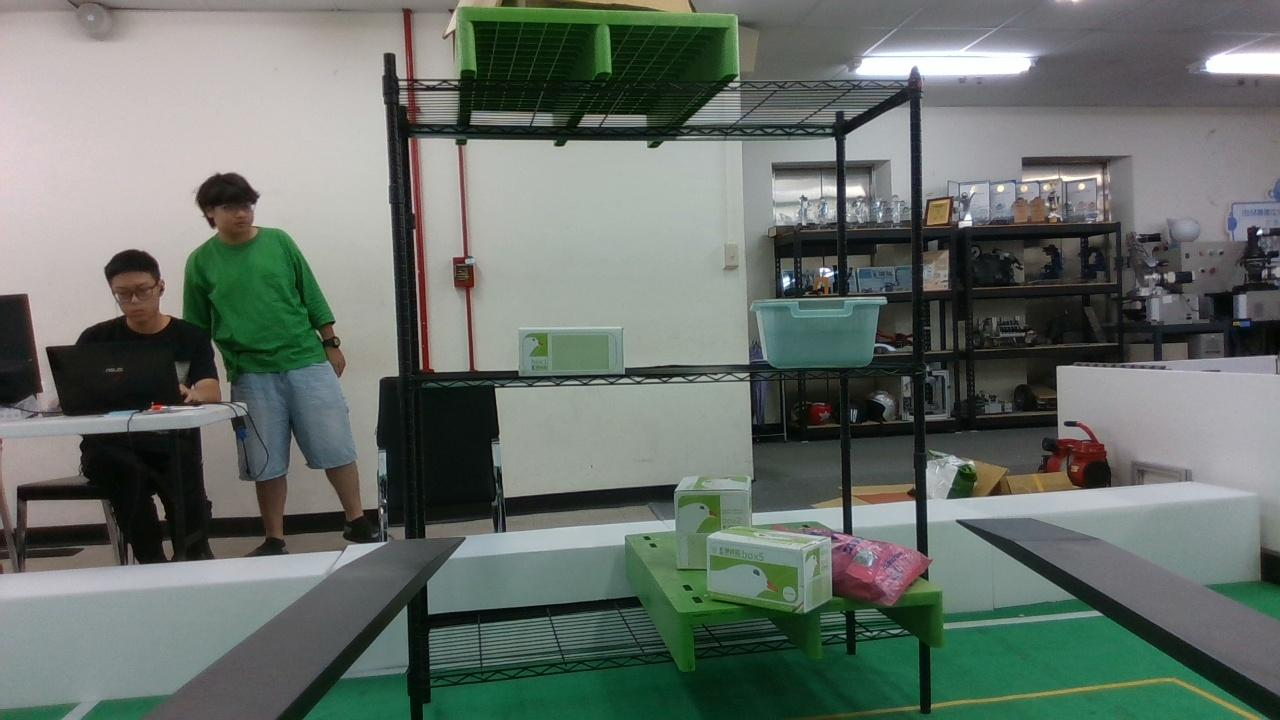Pallet: (679, 587, 943, 670), (456, 7, 739, 76)
